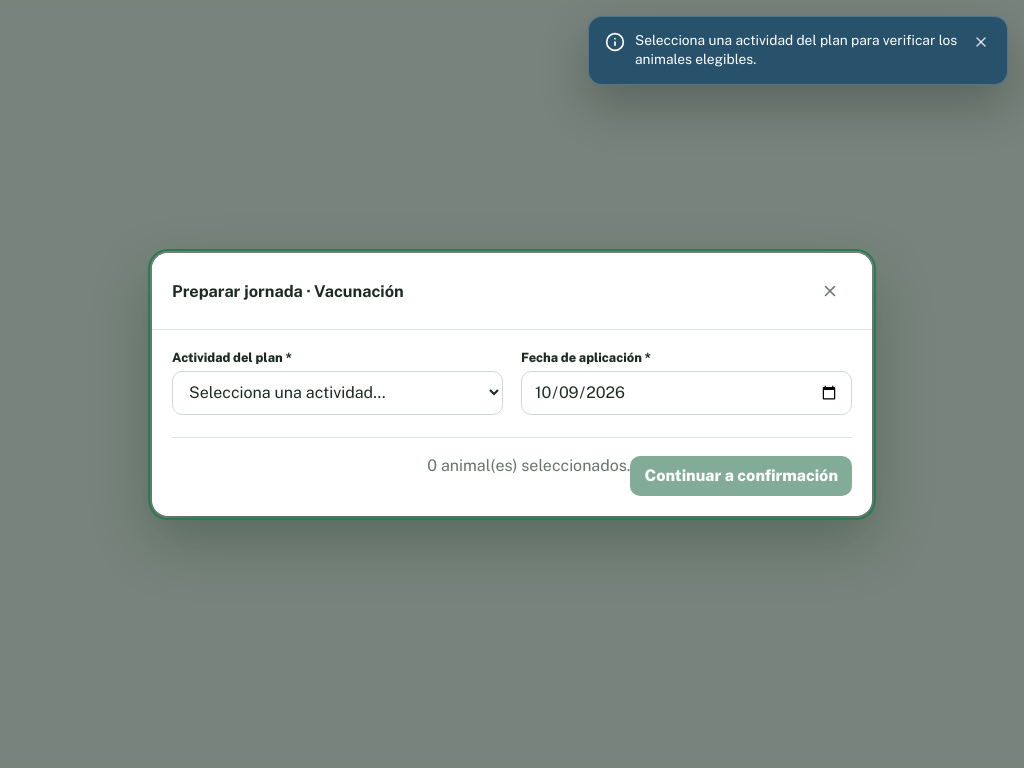
Scenario: JornadaPrepararModal › preselecciona los animales de la visita anterior que siguen siendo elegibles
Select "Vacunación" in the dropdown labelled "Actividad del plan *": (338, 392) [173,372,502,413]
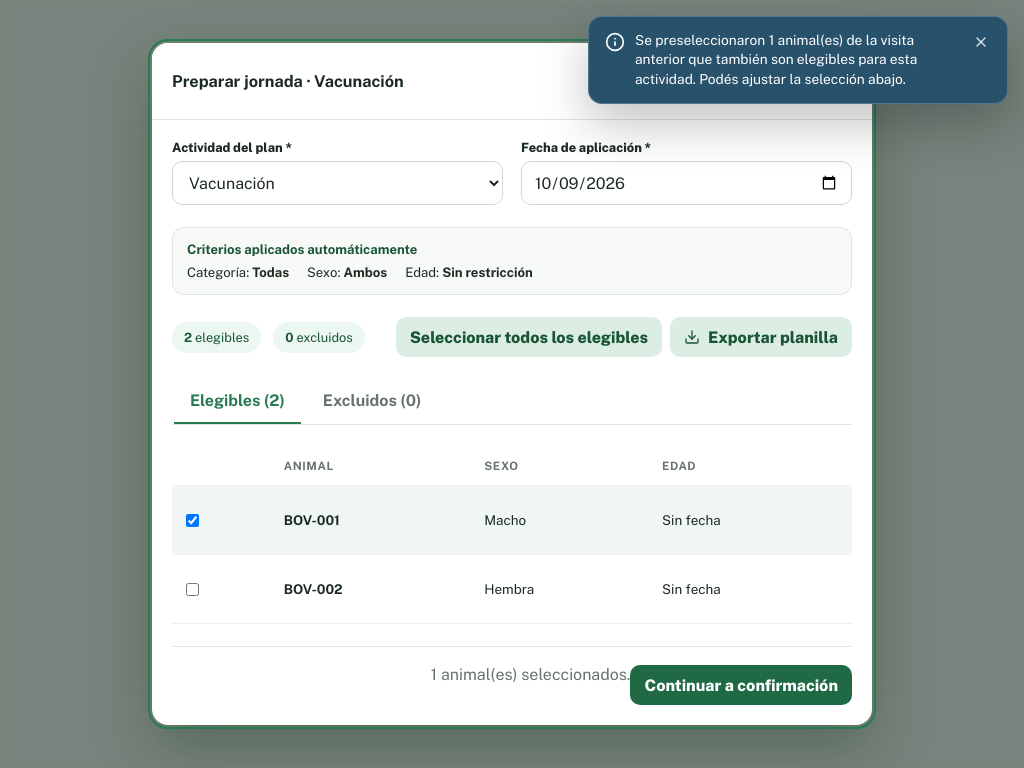
Now the text "Se preseleccionaron 1 animal" is shown, box [635,31,961,89]
Now the checkbox named "Seleccionar BOV-001" is checked, box [186,514,199,526]
Now the checkbox named "Seleccionar BOV-002" is not checked, box [186,582,199,596]
